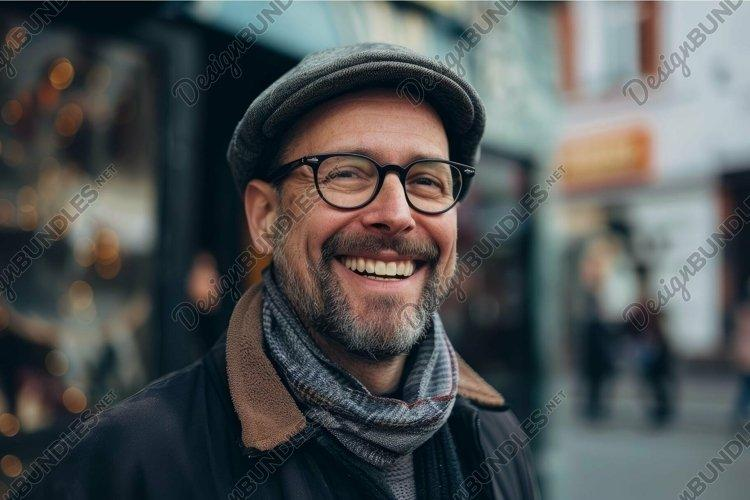cap: (231, 36, 497, 196)
sunglasses: (281, 141, 484, 223)
